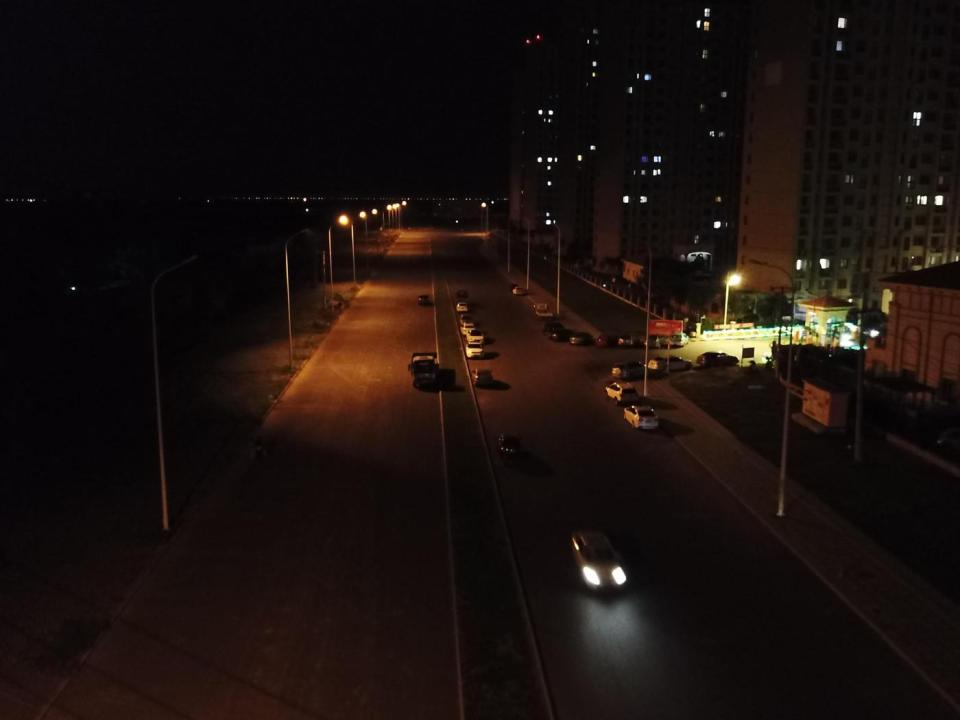car: (570, 528, 628, 591), (622, 405, 658, 429), (604, 382, 639, 405), (647, 355, 693, 372), (495, 433, 525, 459), (611, 360, 649, 378), (696, 351, 739, 366), (471, 369, 493, 385), (549, 329, 576, 341), (465, 341, 483, 358), (570, 332, 592, 345), (595, 334, 617, 347), (644, 335, 666, 348), (466, 329, 485, 344), (669, 332, 689, 346), (542, 322, 565, 334), (617, 332, 633, 346), (460, 322, 476, 335), (455, 302, 468, 312), (460, 314, 473, 324), (512, 286, 524, 295), (419, 294, 429, 304)
truck: (408, 352, 439, 387), (532, 303, 552, 320)
